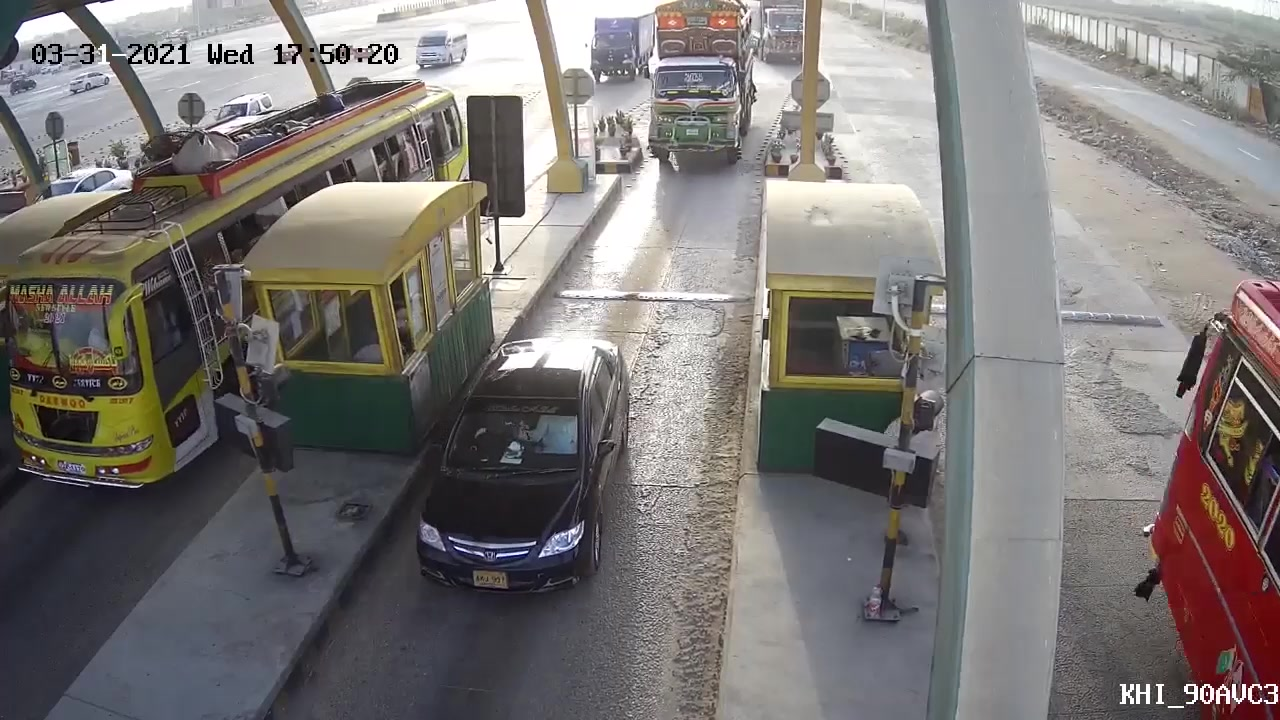F1: (420, 335, 629, 595)
F5: (643, 1, 758, 178)
